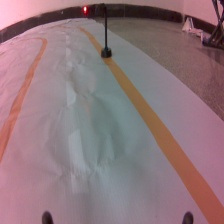red: (79, 1, 113, 61)
